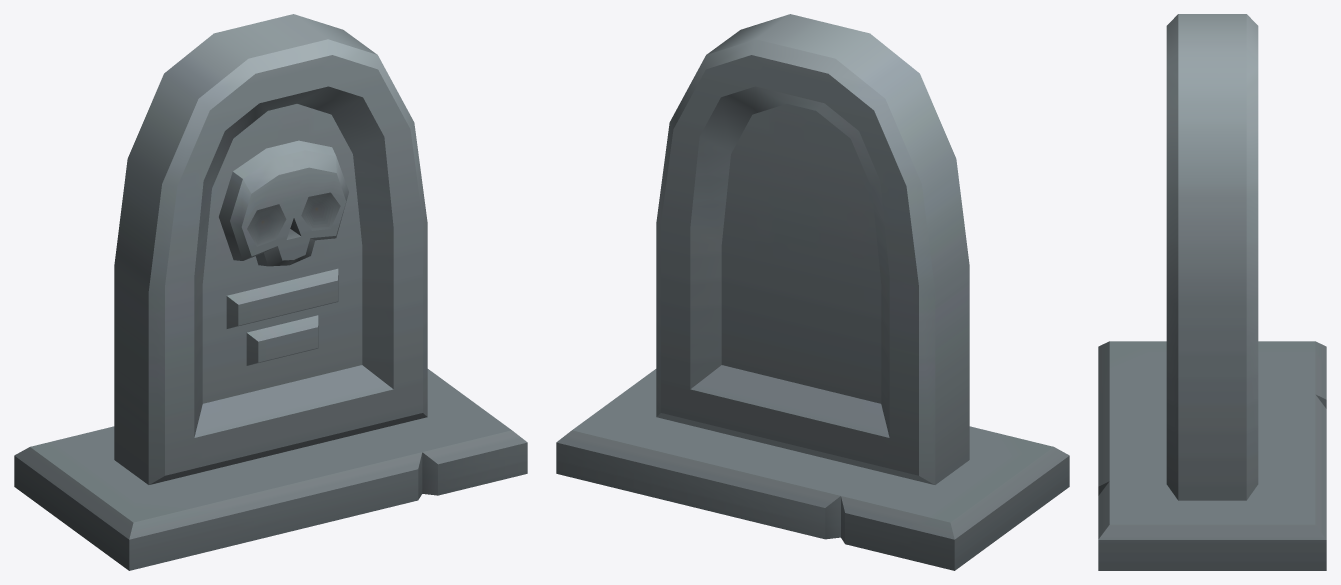
Rendered from grave_A.glb.
3 renders of one model, left to right at view 1: azimuth 30°, elevation 25°; view 2: azimuth 150°, elevation 25°; view 3: azimuth 270°, elevation 25°, orthographic.
Parts seen in each view (by area): view 1: grave_A; view 2: grave_A; view 3: grave_A.
Boxes of the visible parts, x1,y1,x2,y2 form: grave_A: [14, 14, 527, 570]; grave_A: [556, 14, 1069, 570]; grave_A: [1098, 14, 1326, 570].
Bounding box in the file's own units: 2 × 2.13 × 1.
1 material, 1 textured.
